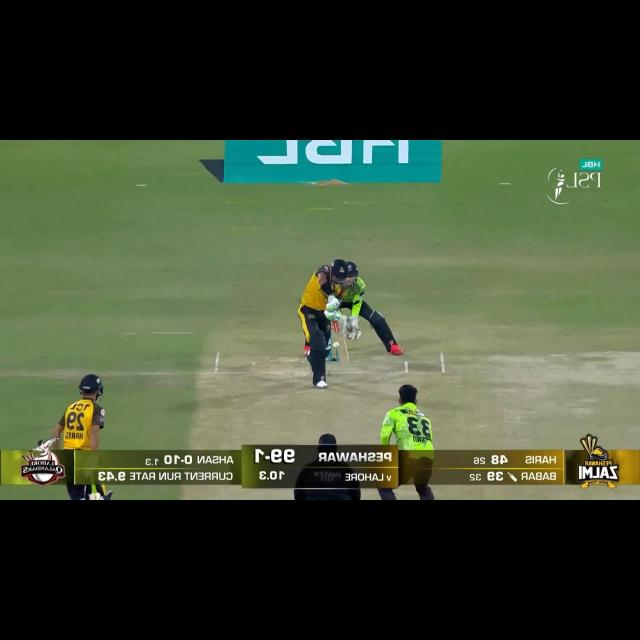bat: (331, 320, 350, 365)
toe: (338, 355, 349, 367)
